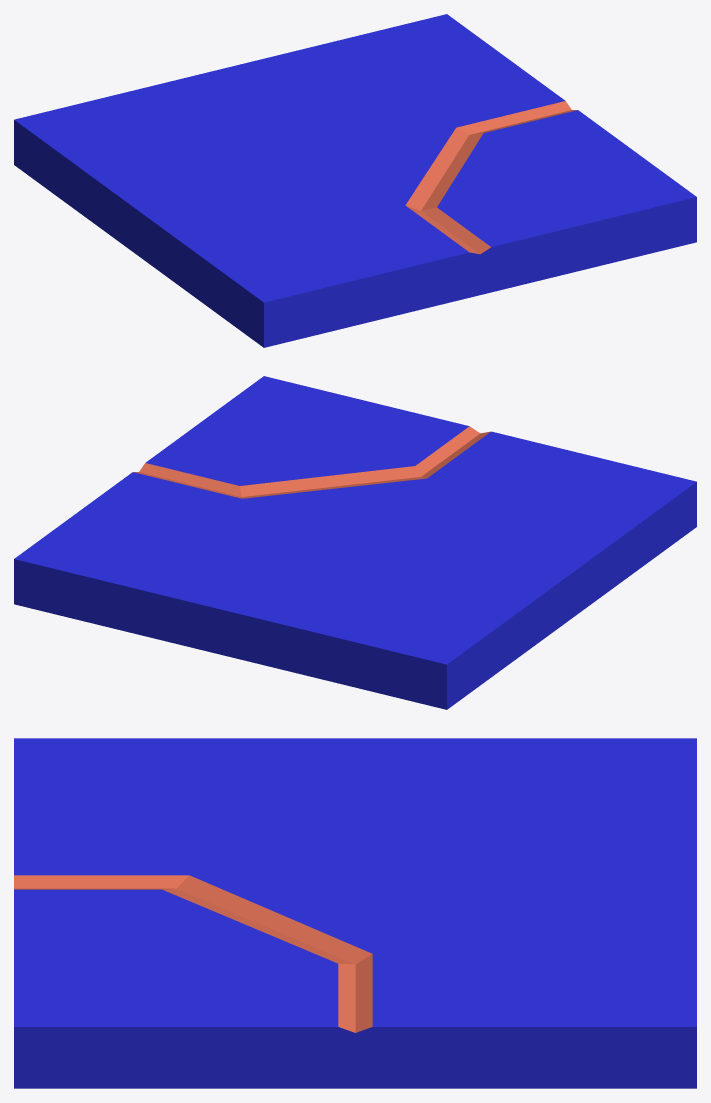
The model's file is CornerTileFinal.fbx.
The picture shows the model from 3 angles, top to bottom: view 1: azimuth 30°, elevation 25°; view 2: azimuth 150°, elevation 25°; view 3: azimuth 270°, elevation 25°; orthographic projection. The views are drawn at different scales.
Visible parts, largest first — view 1: CornerTile; view 2: CornerTile; view 3: CornerTile.
Part boxes in pixels (left/top/right/bottom): CornerTile: left=14, top=14, right=696, bottom=347; CornerTile: left=14, top=376, right=696, bottom=709; CornerTile: left=14, top=738, right=696, bottom=1088.
Bounding box in the file's own units: 200 × 20 × 200.
